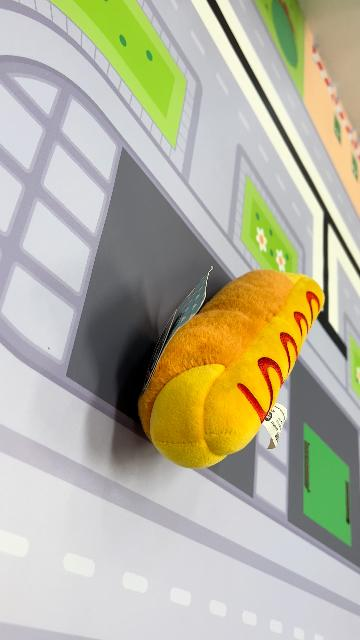hotdog: (137, 268, 327, 470)
